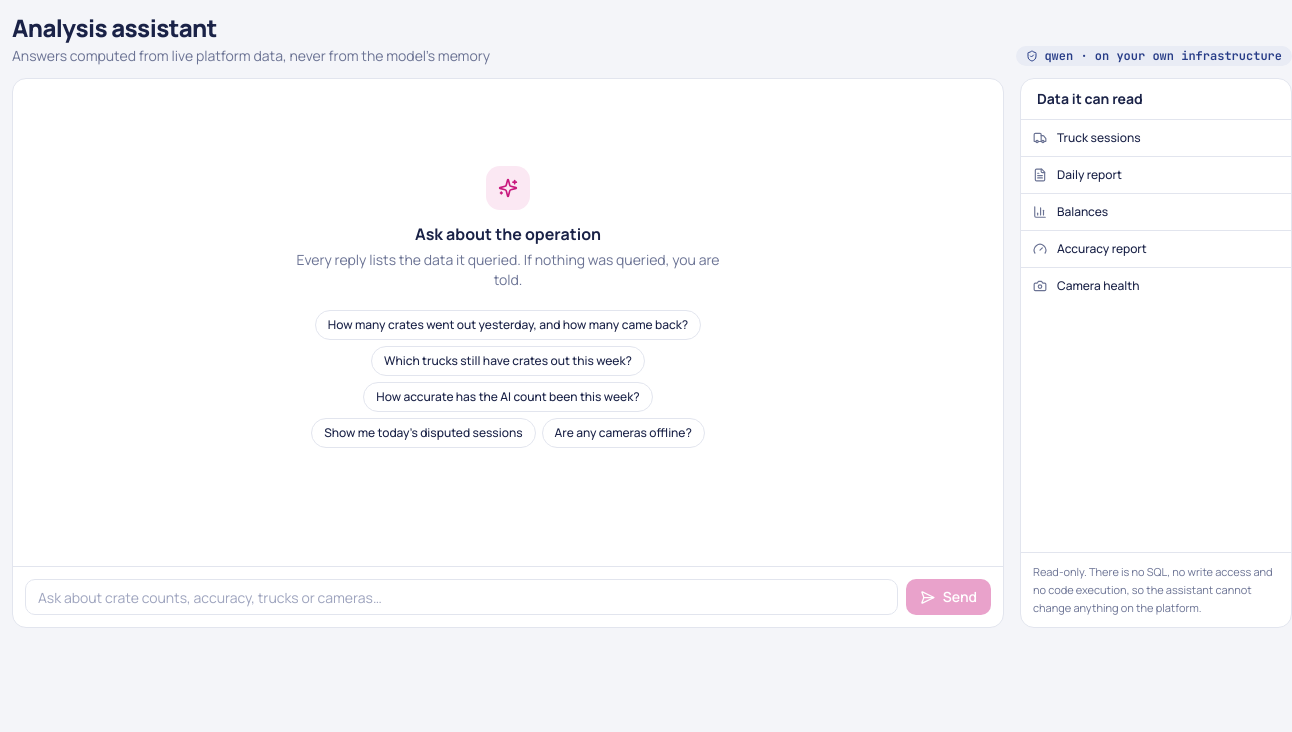
Scenario: assistant › warns when a reply queried no data
The image size is (1292, 732).
(page scrolled)
Type "Hi" into the field named "Message".
click(461, 597); type("Hi")  # box x1=25 y1=579 x2=898 y2=615
Then press Enter
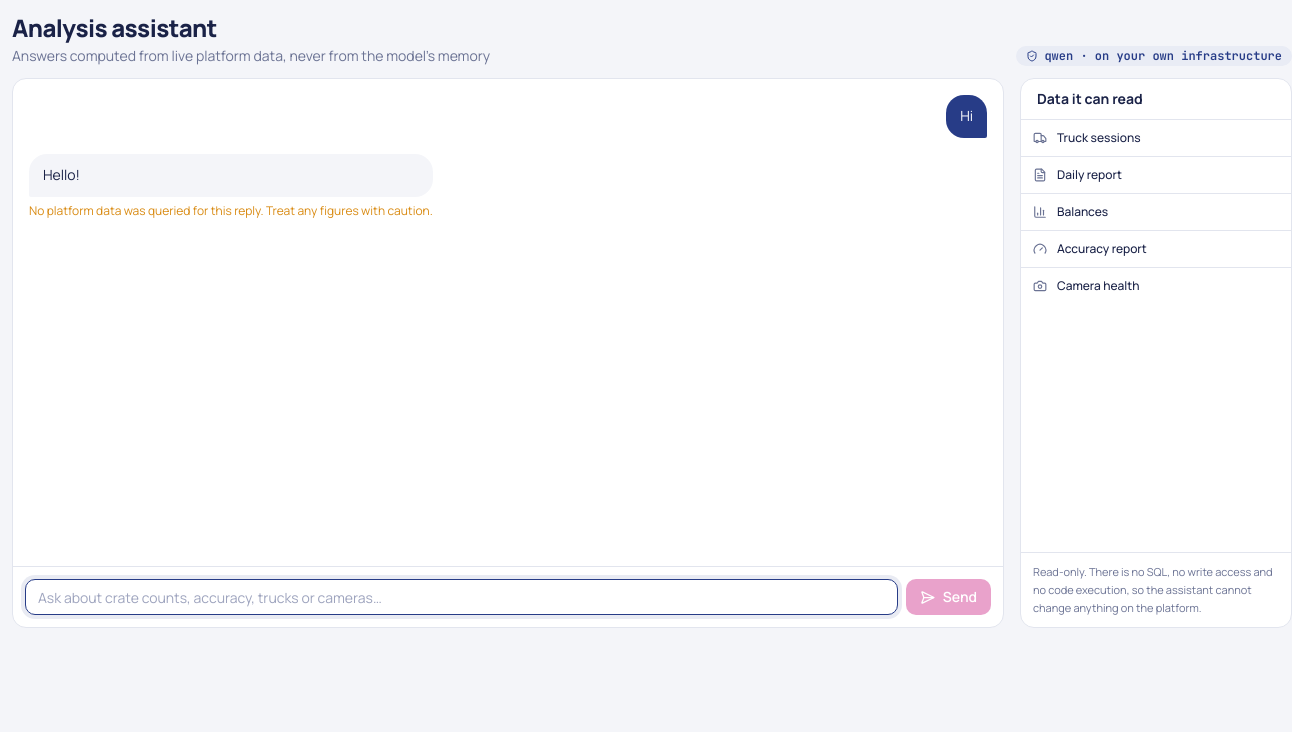
Expected: the text "No platform data was queried" is shown, x1=29 y1=202 x2=433 y2=218
